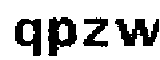p: (47, 15, 78, 60)
q: (13, 17, 43, 60)
w: (113, 14, 160, 48)
z: (80, 16, 110, 51)
